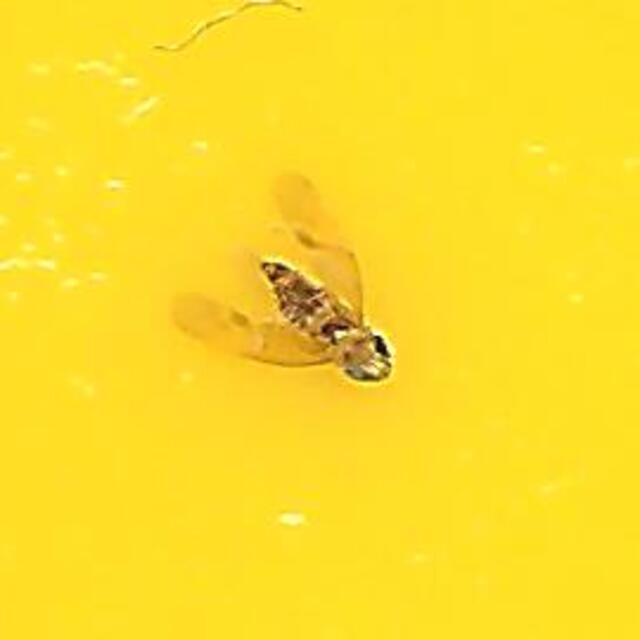Hemiptera: (237, 243, 403, 397)
